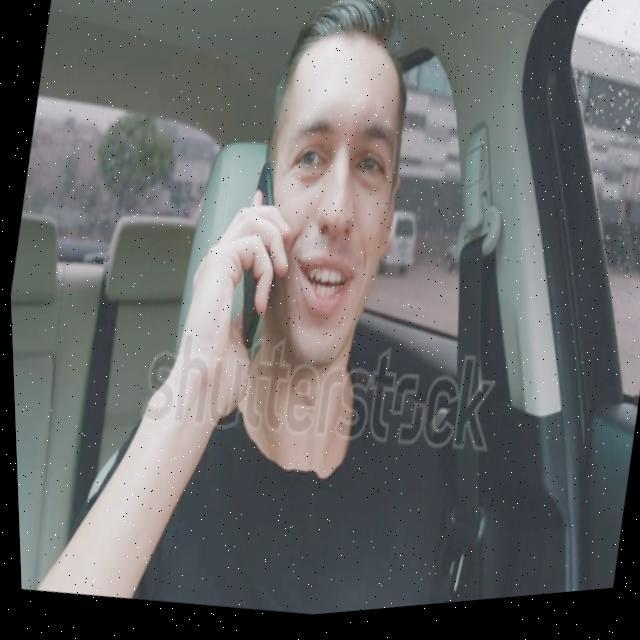PhoneCall: (218, 165, 291, 359)
